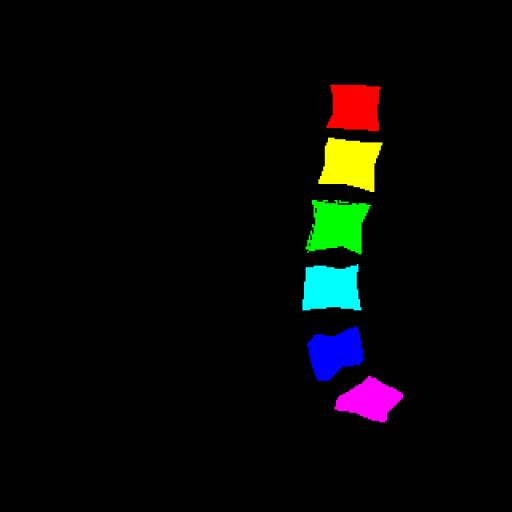L1: (328, 86, 380, 130)
L2: (318, 137, 382, 192)
L3: (306, 200, 371, 254)
L4: (304, 264, 362, 310)
L5: (307, 327, 364, 381)
S1: (334, 376, 403, 422)
